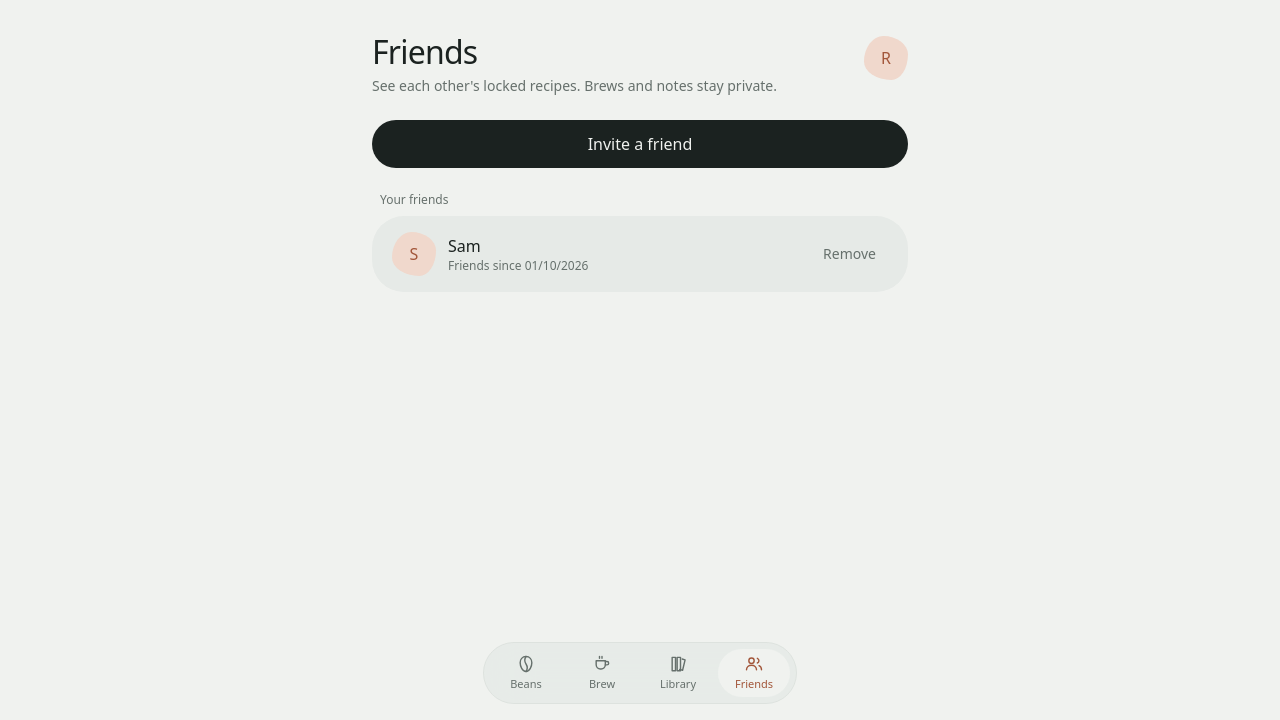
Scenario: Removing a friend › asks first, then removes them from your friends
Click the button with aria-label "Remove Sam": coordinates (850, 254) 811,234 -> 888,274
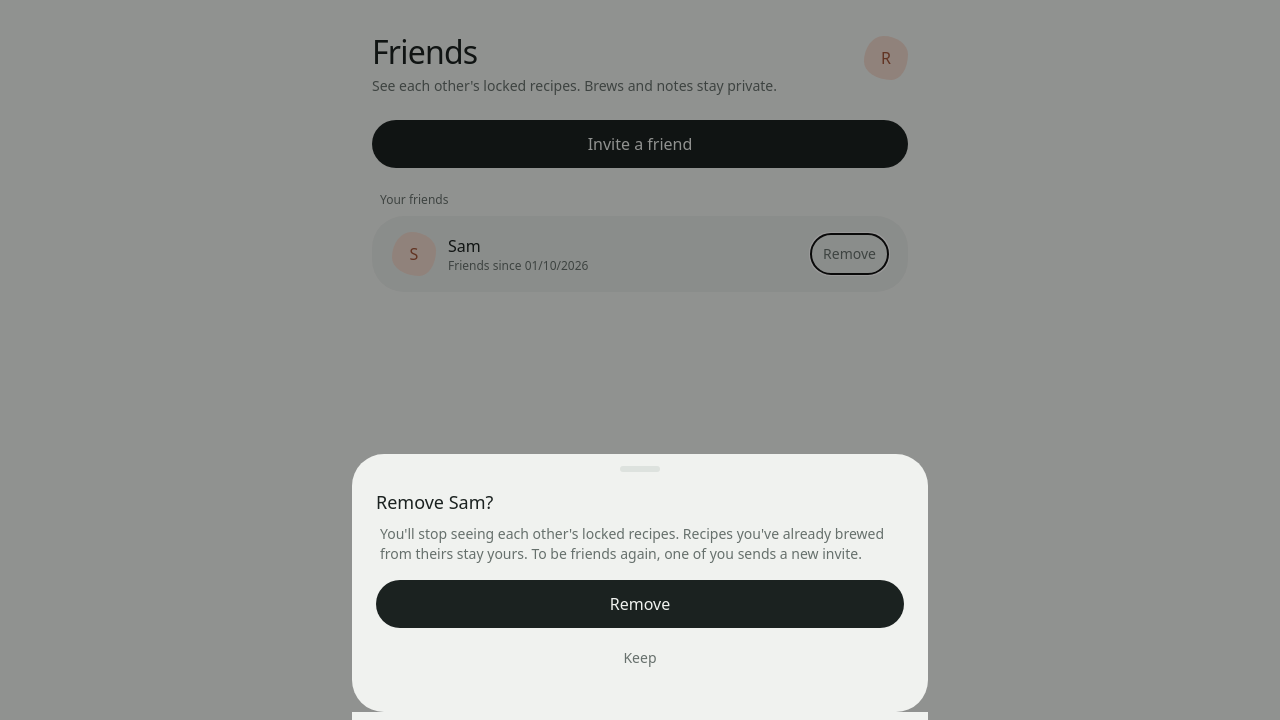
Expected: the text "You'll stop seeing each other's locked recipes" is shown, 380,524 -> 884,563
Click the button "Remove": coordinates (640, 604) 376,580 -> 904,628
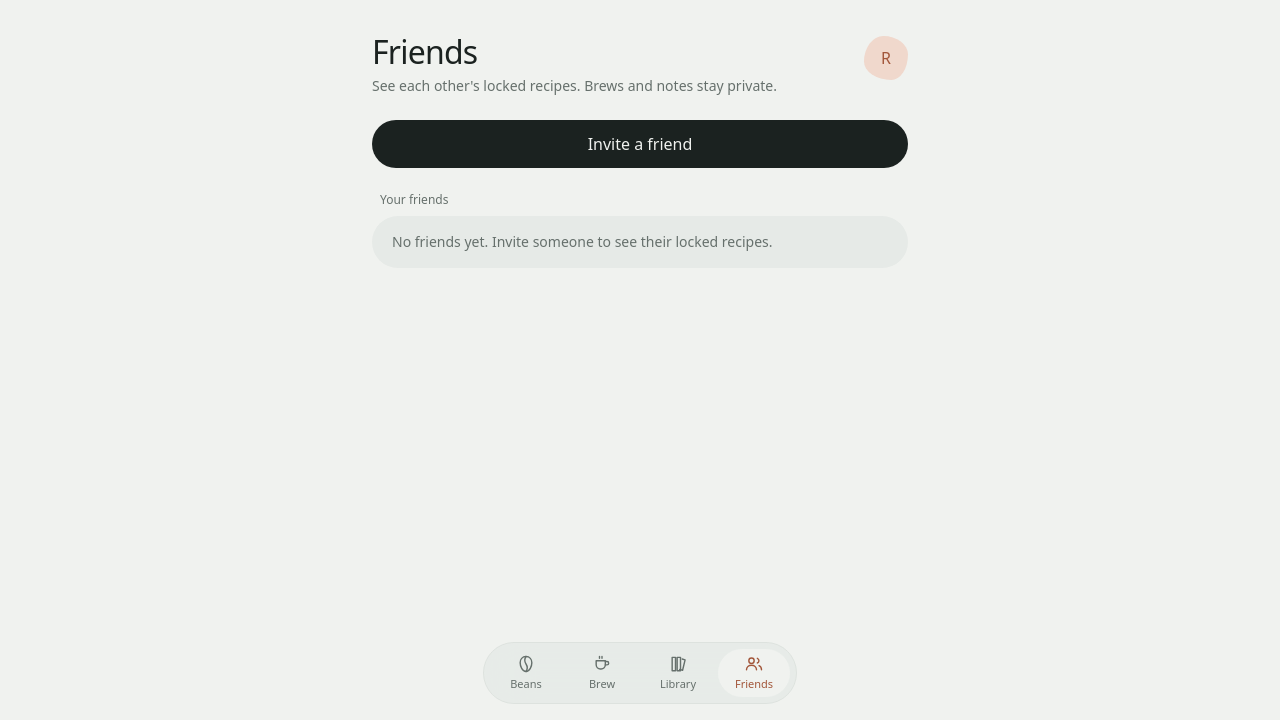
Expected: the text "No friends yet. Invite someone to see their locked recipes." is shown, 372,216 -> 908,268
